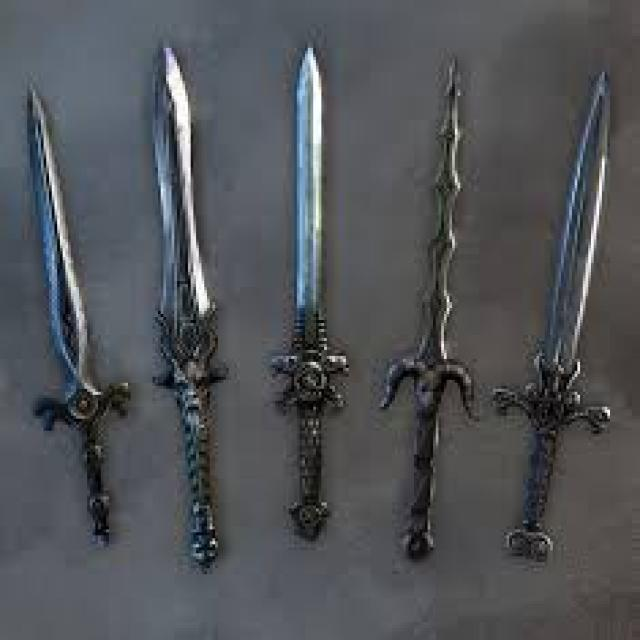Gun: (488, 58, 632, 580), (5, 68, 141, 581), (130, 44, 247, 574), (374, 43, 488, 574), (264, 33, 358, 560)
